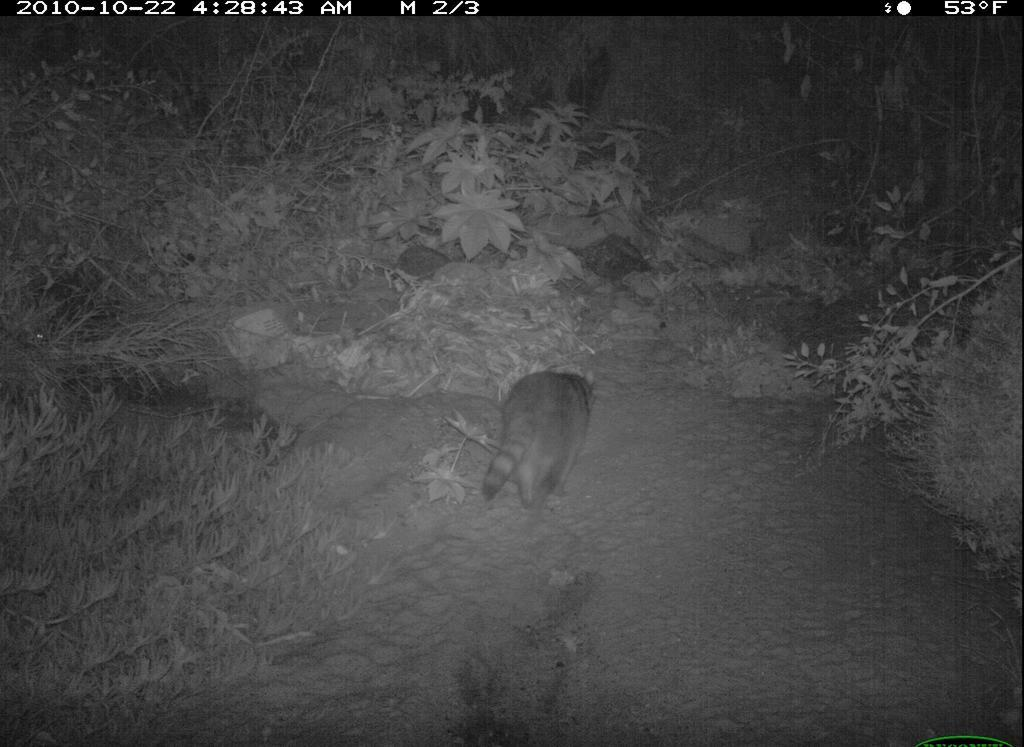raccoon: (475, 360, 615, 534)
